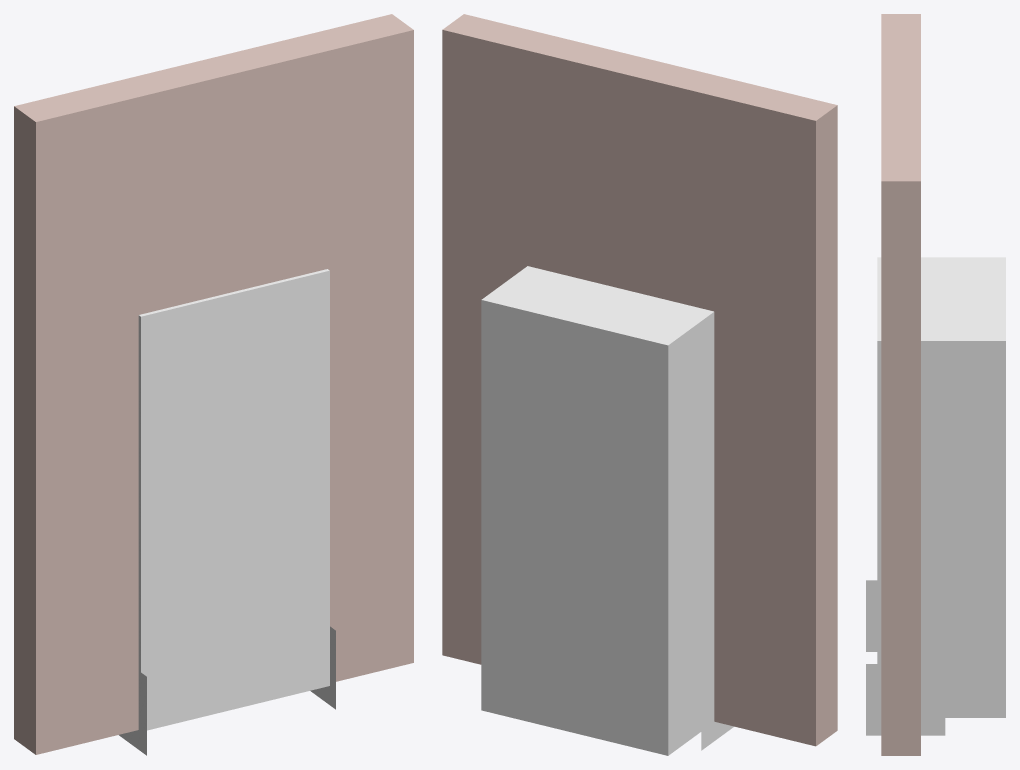
Rendered from door.fbx.
3 renders of one model, left to right at view 1: azimuth 30°, elevation 25°; view 2: azimuth 150°, elevation 25°; view 3: azimuth 270°, elevation 25°, orthographic. The views are drawn at different scales.
Visible parts, largest first — view 1: Room, CTRL_Hole, CTRL_Baseboard; view 2: Room, CTRL_Hole, CTRL_Baseboard; view 3: CTRL_Hole, Room, CTRL_Baseboard.
Boxes of the visible parts, left/top/right/bottom form: Room: left=14, top=14, right=413, bottom=754; CTRL_Hole: left=138, top=269, right=329, bottom=731; CTRL_Baseboard: left=119, top=626, right=335, bottom=755; Room: left=442, top=14, right=837, bottom=746; CTRL_Hole: left=481, top=266, right=714, bottom=755; CTRL_Baseboard: left=701, top=670, right=733, bottom=750; CTRL_Hole: left=877, top=257, right=1005, bottom=717; Room: left=881, top=14, right=920, bottom=755; CTRL_Baseboard: left=866, top=580, right=945, bottom=735.
Size of the model in its own units: 200 by 330 by 70.67.
